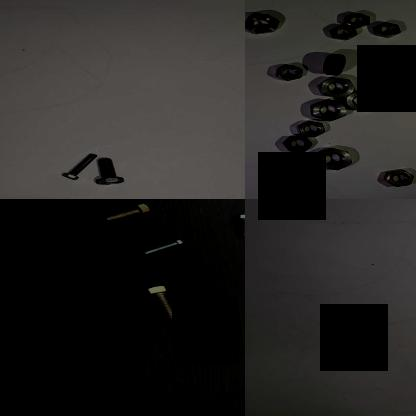Bolts: (135, 275, 181, 320), (104, 199, 156, 229), (94, 155, 130, 187), (58, 152, 98, 180), (140, 236, 191, 257), (227, 210, 245, 240)
NUTS: (314, 142, 353, 170), (306, 99, 352, 120), (245, 10, 282, 36), (379, 48, 416, 73), (341, 90, 383, 112), (317, 76, 355, 96), (278, 134, 316, 154), (382, 167, 416, 188), (293, 118, 327, 138), (276, 62, 306, 83), (322, 50, 346, 76), (370, 20, 404, 38), (328, 22, 362, 40), (341, 9, 371, 29)
